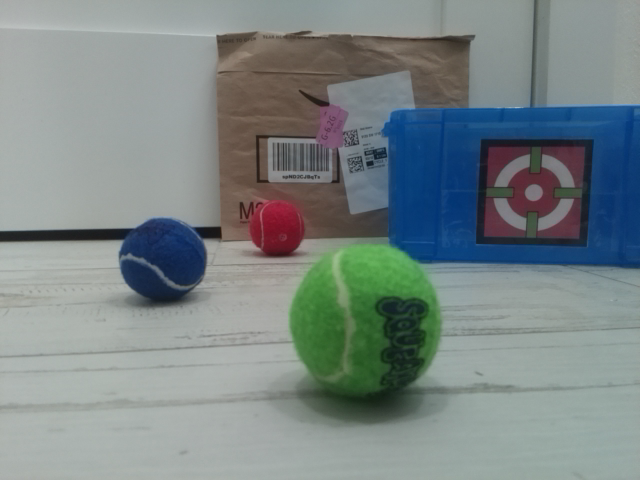blue-ball: (118, 217, 209, 304)
drop-bin: (474, 138, 593, 247)
green-ball: (289, 243, 442, 402)
red-ball: (249, 199, 305, 257)
